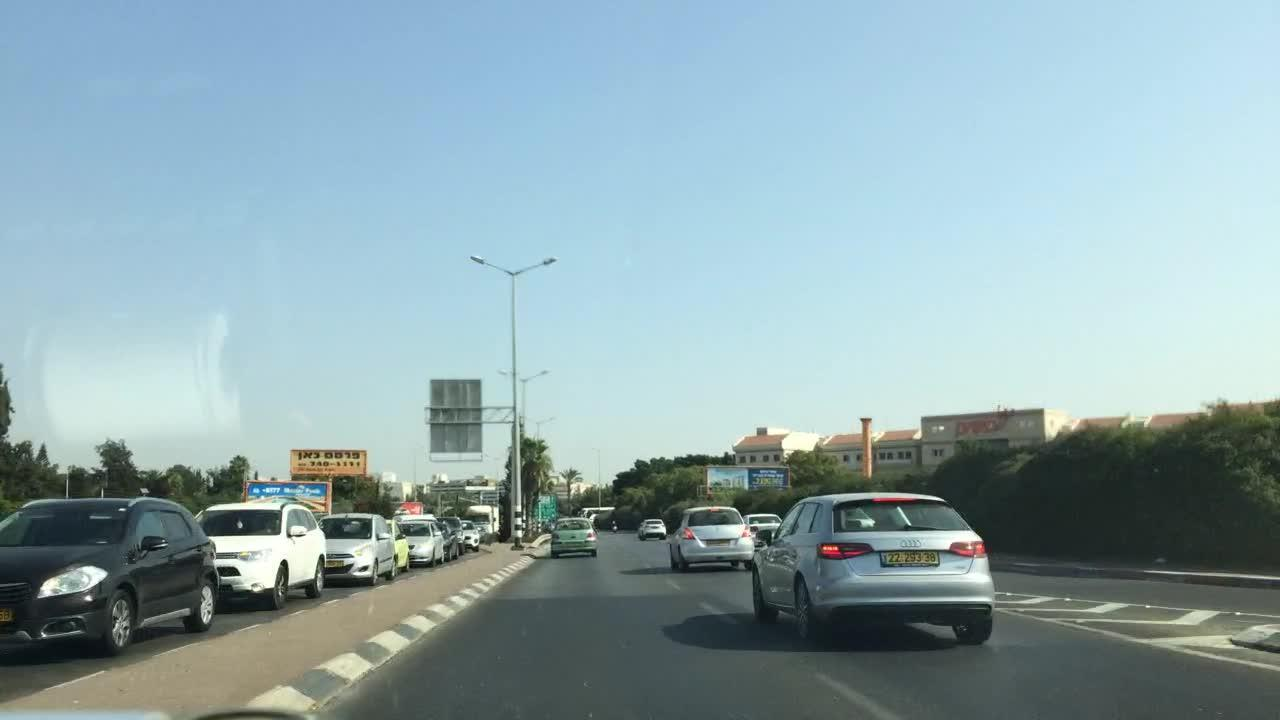Audi: (896, 533, 926, 553)
